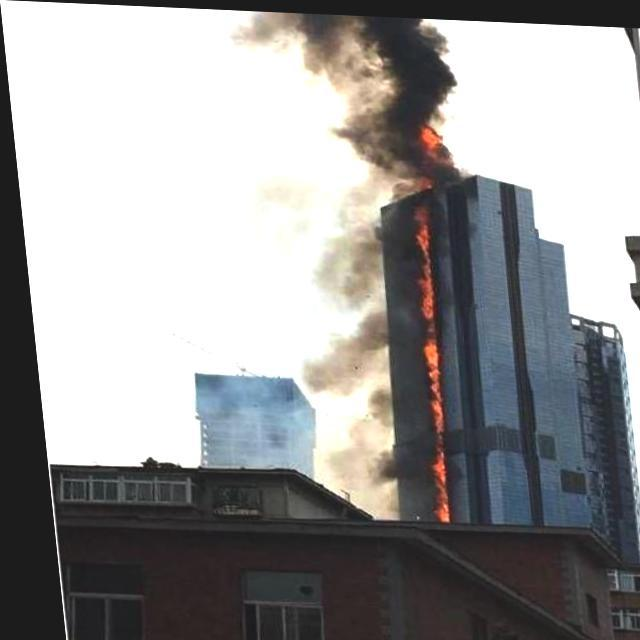Fire: (396, 202, 447, 515), (403, 120, 458, 186)
